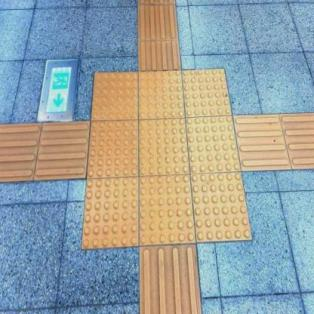Podoctatil: (56, 42, 271, 277), (0, 122, 86, 180), (244, 108, 314, 174), (140, 245, 203, 314), (138, 0, 183, 68)
